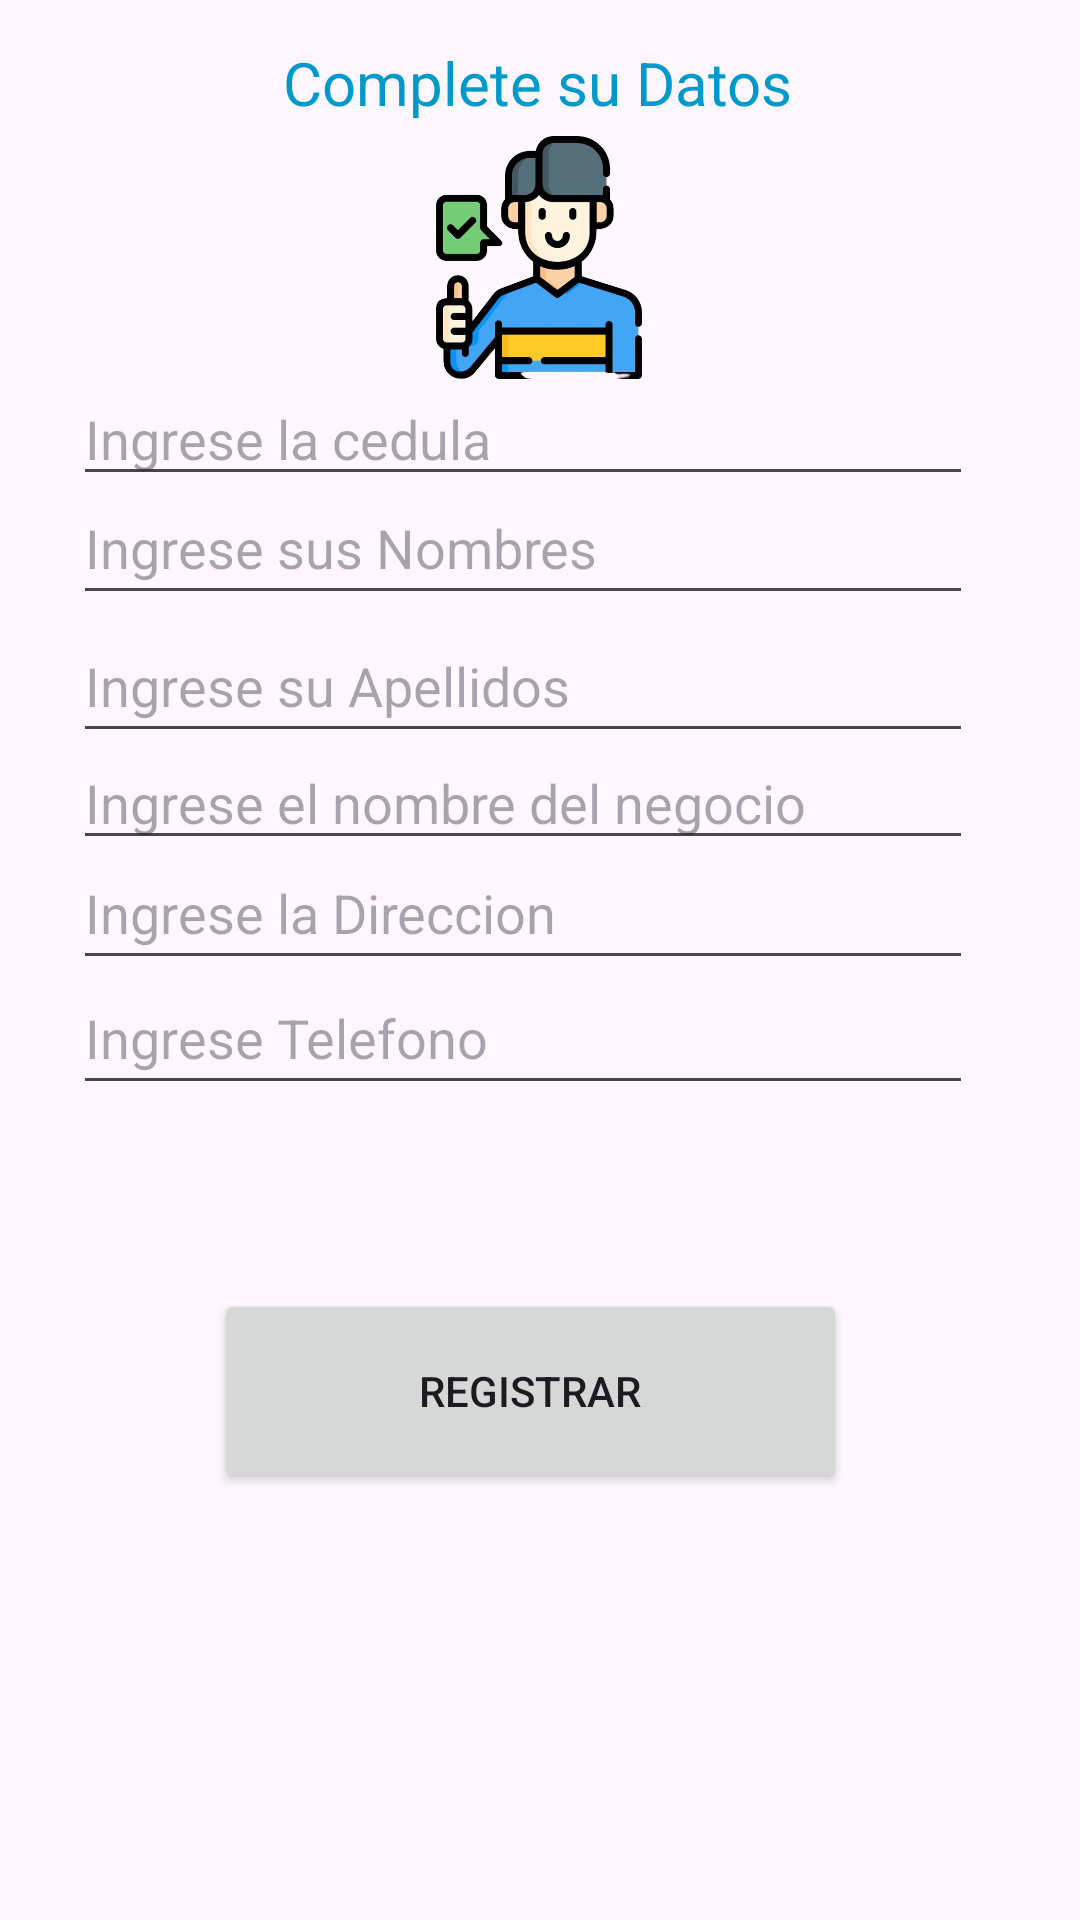

Icons on this 1080px x 1920px Android screen, each with its box as (x1, y1, x2, y2):
cliente: (436, 136, 642, 379)
